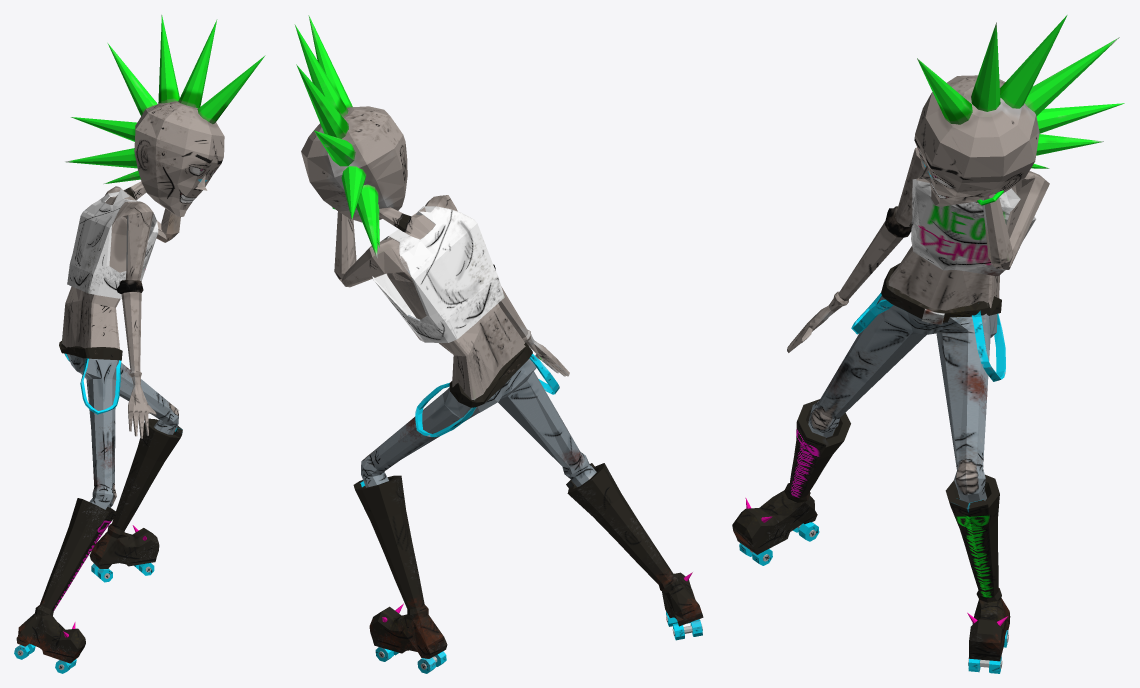
Rendered from punkAnimation_000003.obj.
3 views of the same model, side by side, from view 1: azimuth 30°, elevation 25°; view 2: azimuth 150°, elevation 25°; view 3: azimuth 270°, elevation 25° (orthographic). The views are drawn at different scales.
Parts seen in each view (by area): view 1: Cube.004_Cube.003; view 2: Cube.004_Cube.003; view 3: Cube.004_Cube.003.
Part boxes in pixels (bbox=[...]): Cube.004_Cube.003: bbox=[14, 15, 265, 673]; Cube.004_Cube.003: bbox=[294, 15, 703, 673]; Cube.004_Cube.003: bbox=[732, 15, 1124, 673].
Bounding box in the file's own units: 3.81 × 6.53 × 3.32.
